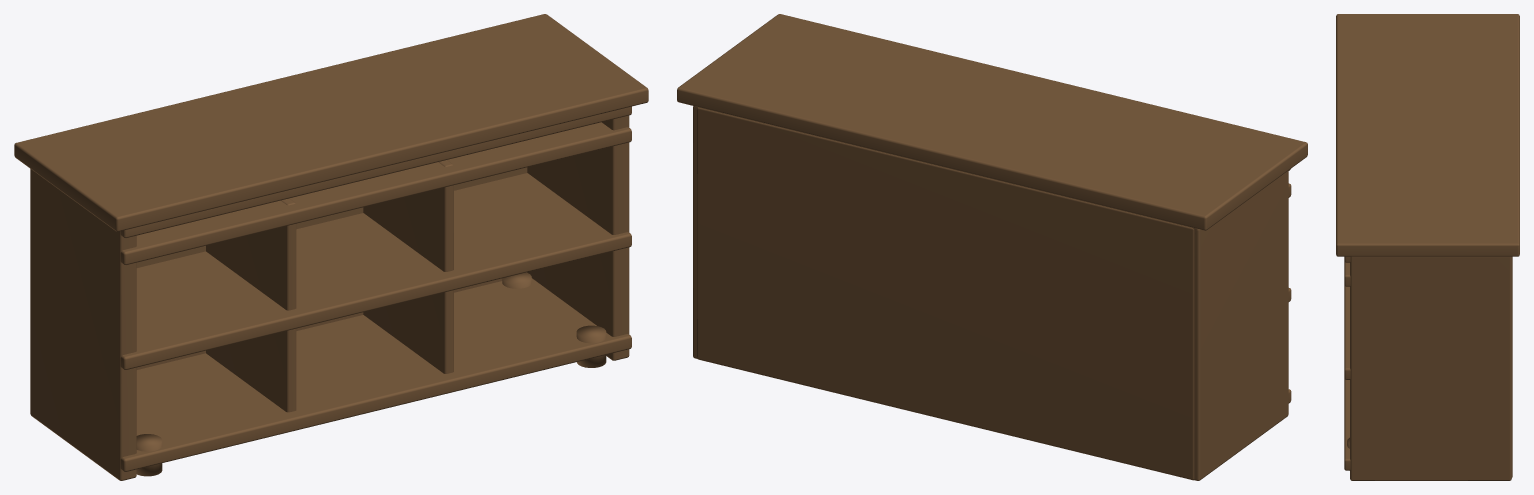
File: dresser.glb
The picture shows the model from 3 angles, left to right: view 1: azimuth 30°, elevation 25°; view 2: azimuth 150°, elevation 25°; view 3: azimuth 270°, elevation 25°; orthographic projection. The views are drawn at different scales.
Parts seen in each view (by area): view 1: dresser; view 2: dresser; view 3: dresser.
Part boxes in pixels (x1,y1,x2,y2): dresser: (14, 14, 648, 480); dresser: (677, 14, 1307, 480); dresser: (1336, 14, 1519, 480).
Size of the model in its own units: 3.72 by 1.82 by 1.25.
